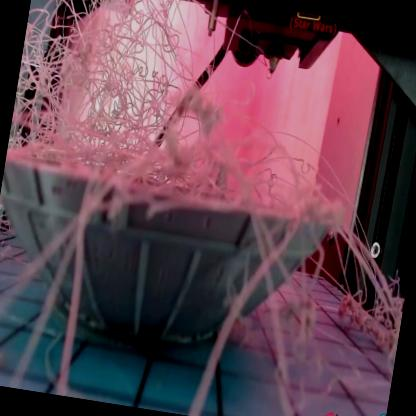fail: (8, 1, 201, 174), (319, 274, 408, 363)
